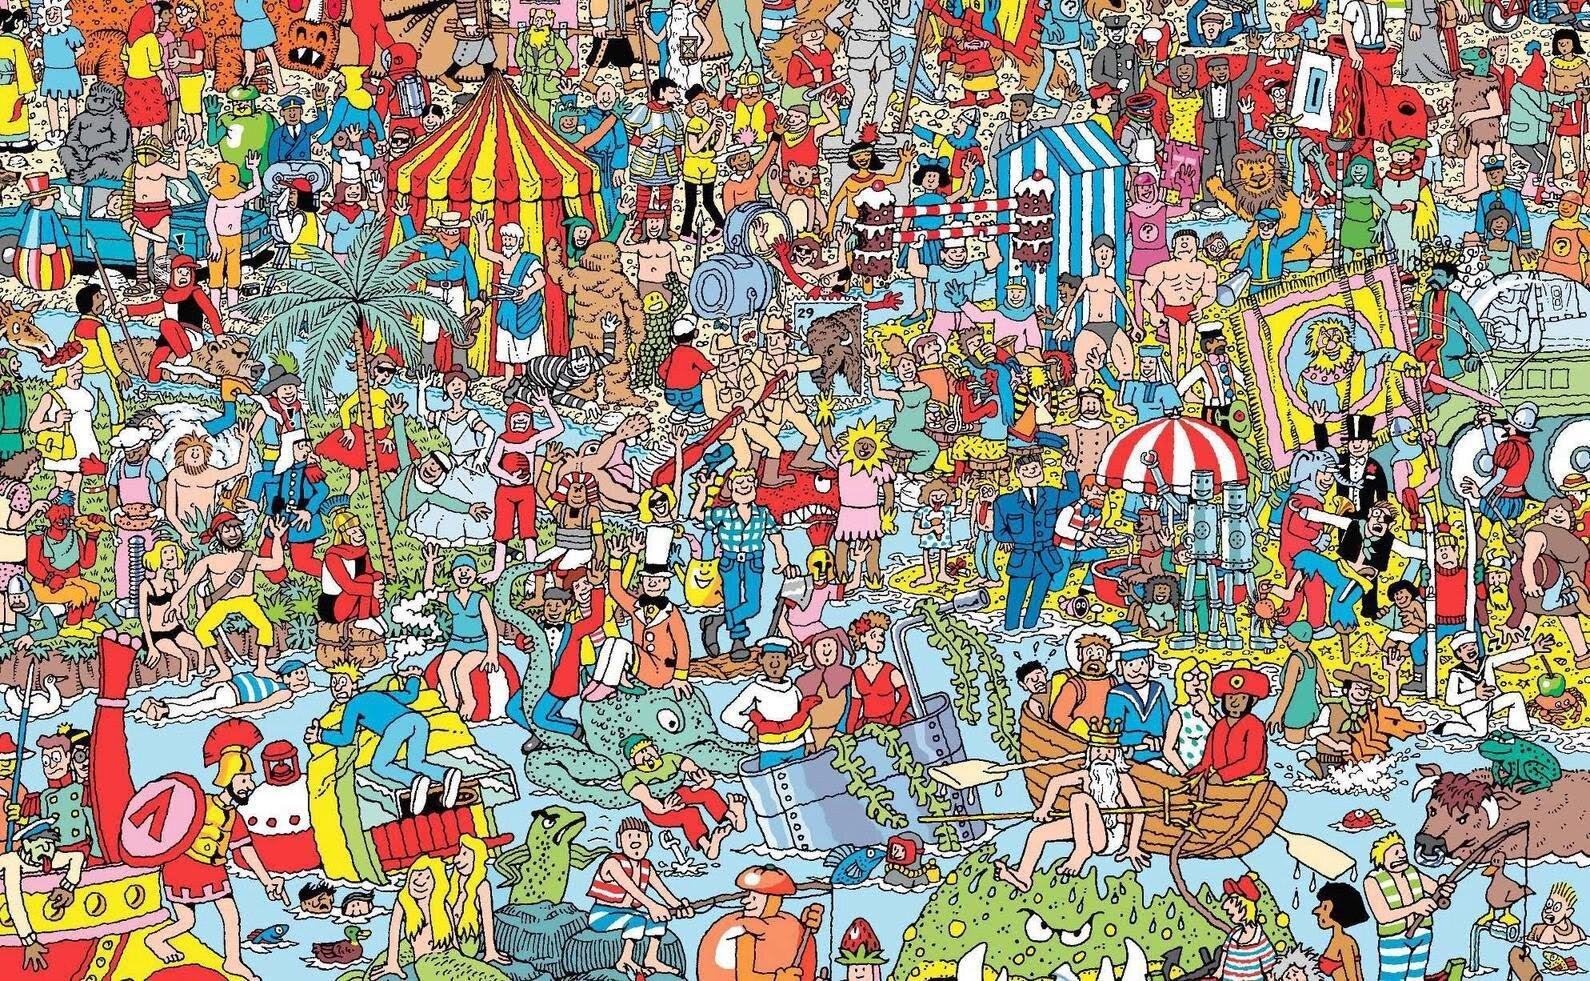waldos: (1257, 74, 1293, 131)
